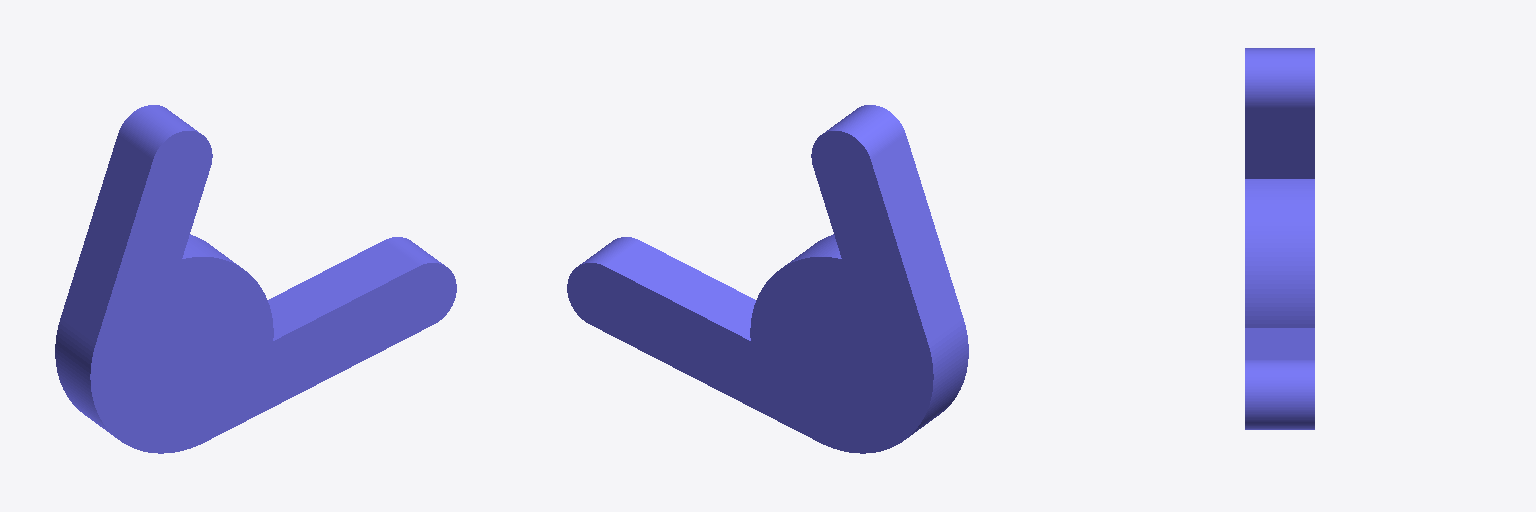
Rendered from ElbowConnector.obj.
3 renders of one model, left to right at view 1: azimuth 30°, elevation 25°; view 2: azimuth 150°, elevation 25°; view 3: azimuth 270°, elevation 25°, orthographic.
Parts seen in each view (by area): view 1: ElbowConnector; view 2: ElbowConnector; view 3: ElbowConnector.
Part boxes in pixels (x1,y1,x2,y2): ElbowConnector: (55, 105, 456, 453); ElbowConnector: (567, 105, 968, 453); ElbowConnector: (1245, 48, 1314, 429).
Size of the model in its own units: 0.6 by 0.5 by 0.1.